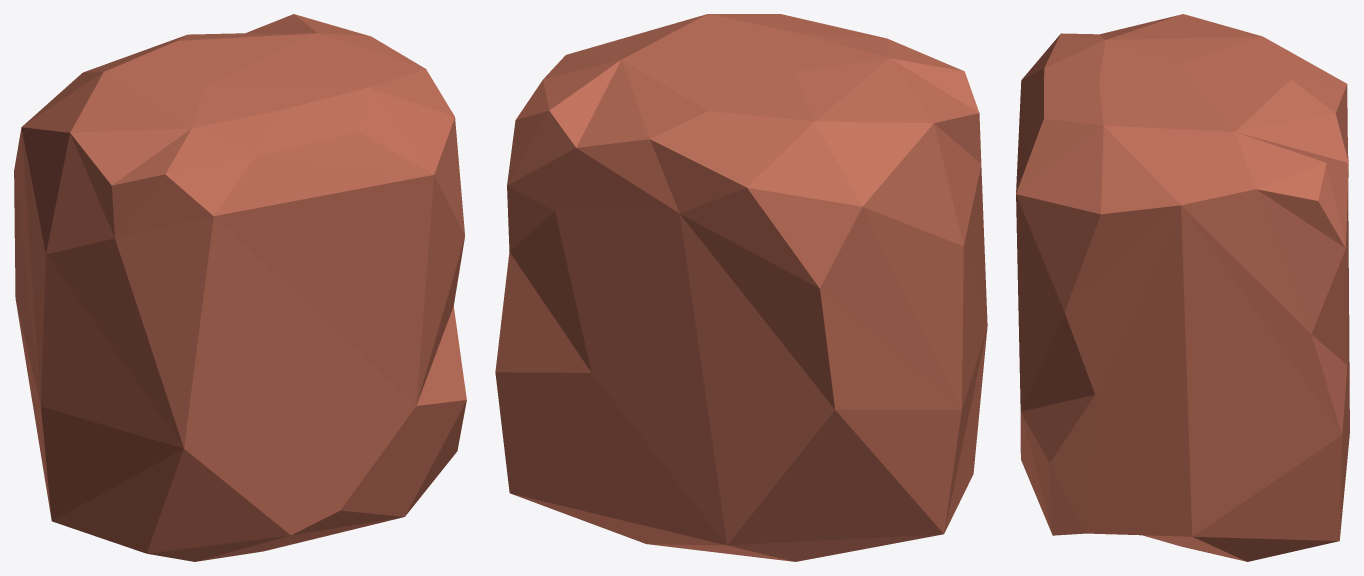
Rendered from boulder_001.fbx.
3 renders of one model, left to right at view 1: azimuth 30°, elevation 25°; view 2: azimuth 150°, elevation 25°; view 3: azimuth 270°, elevation 25°, orthographic. The views are drawn at different scales.
Visible parts, largest first — view 1: boulder_001; view 2: boulder_001; view 3: boulder_001.
Boxes of the visible parts, x1,y1,x2,y2 form: boulder_001: (14,14,466,561); boulder_001: (495,14,987,561); boulder_001: (1016,14,1349,561).
Bounding box in the file's own units: 929 × 701 × 984.
